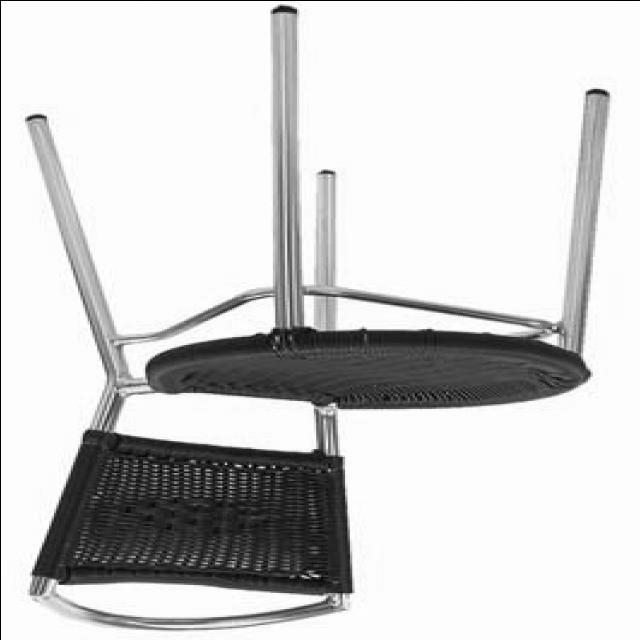chair: (22, 4, 610, 632)
